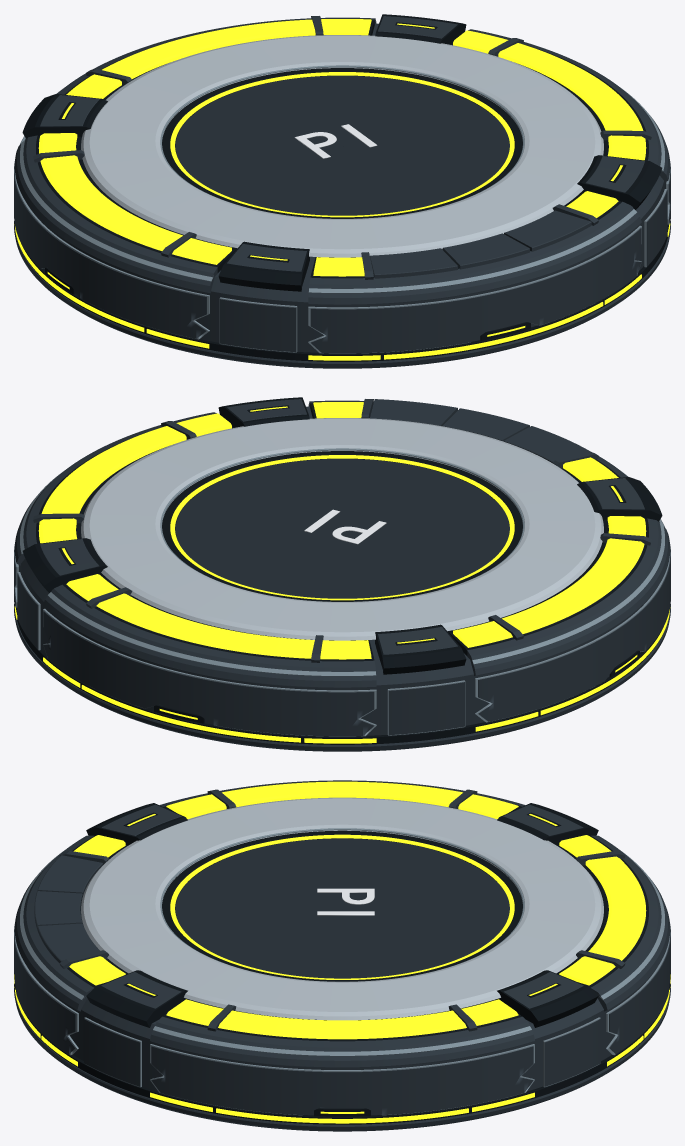
Rendered from Blocker.fbx.
3 renders of one model, top to bottom at view 1: azimuth 30°, elevation 25°; view 2: azimuth 150°, elevation 25°; view 3: azimuth 270°, elevation 25°, orthographic.
Visible parts, largest first — view 1: SM_Puck_Blocker_P1_HighDetail; view 2: SM_Puck_Blocker_P1_HighDetail; view 3: SM_Puck_Blocker_P1_HighDetail.
Part boxes in pixels (box(x1,y1,x2,y2)): SM_Puck_Blocker_P1_HighDetail: box(14, 14, 670, 368); SM_Puck_Blocker_P1_HighDetail: box(14, 397, 670, 751); SM_Puck_Blocker_P1_HighDetail: box(14, 780, 670, 1131).
Size of the model in its own units: 106 by 106 by 16.5.
